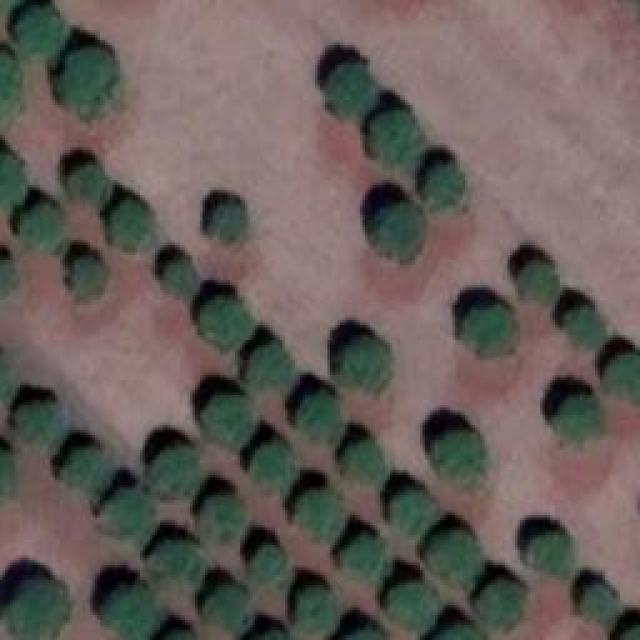Tree: (62, 50, 120, 118), (5, 580, 68, 640), (103, 490, 158, 545), (428, 530, 481, 583), (370, 110, 423, 163), (463, 305, 518, 353), (200, 300, 253, 348), (372, 205, 420, 258), (330, 60, 378, 113), (105, 587, 152, 640), (150, 448, 205, 493), (205, 395, 253, 445), (342, 340, 390, 390), (298, 490, 343, 543), (148, 543, 201, 586), (433, 433, 483, 478), (64, 448, 115, 491), (393, 582, 438, 630), (343, 537, 388, 585), (248, 342, 293, 390), (197, 498, 245, 541), (18, 8, 63, 53), (253, 445, 298, 490), (108, 203, 151, 248), (528, 535, 573, 578), (555, 395, 600, 438), (343, 440, 386, 485), (18, 403, 61, 446), (208, 590, 251, 633), (395, 493, 435, 538), (480, 583, 520, 628), (563, 305, 603, 350), (300, 395, 340, 440), (520, 260, 560, 303), (252, 543, 290, 586), (23, 205, 63, 245), (298, 590, 338, 630), (68, 165, 111, 200), (610, 355, 640, 403), (0, 153, 28, 203), (428, 163, 461, 203), (585, 587, 618, 625), (0, 53, 20, 113), (208, 203, 243, 236), (165, 263, 198, 296), (75, 257, 103, 295), (0, 352, 15, 400), (0, 258, 15, 301)
